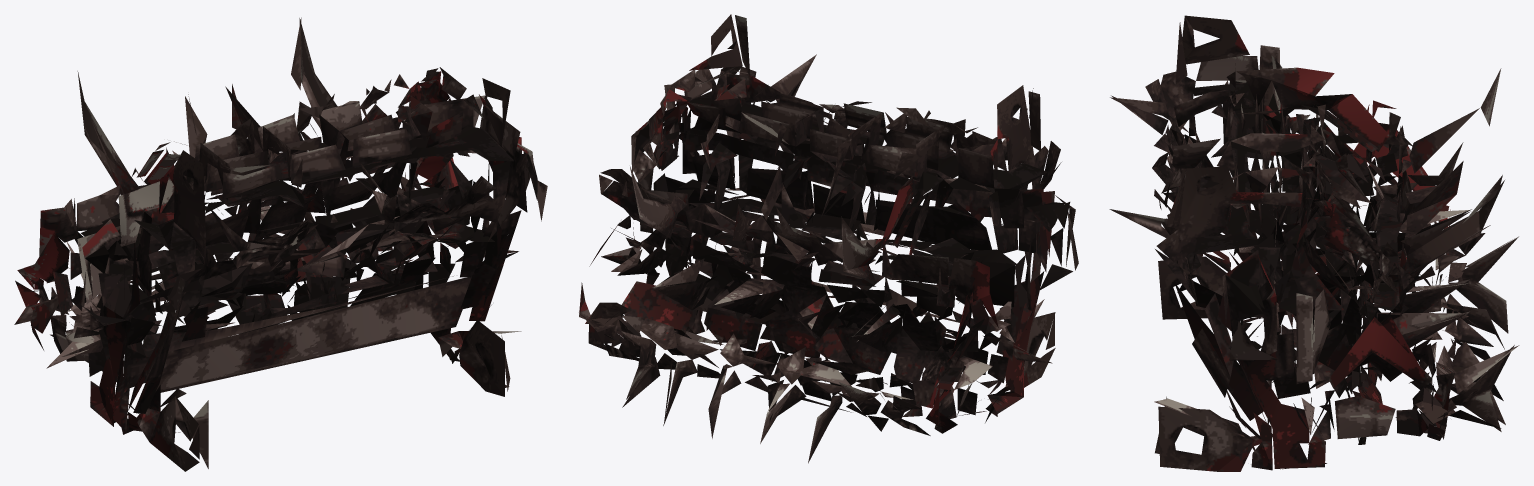
Rendered from mo_spikes.glb.
3 renders of one model, left to right at view 1: azimuth 30°, elevation 25°; view 2: azimuth 150°, elevation 25°; view 3: azimuth 270°, elevation 25°, orthographic. The views are drawn at different scales.
Visible parts, largest first — view 1: mo_spikes; view 2: mo_spikes; view 3: mo_spikes.
Part boxes in pixels (x1,y1,x2,y2): mo_spikes: [14, 17, 547, 471]; mo_spikes: [579, 14, 1078, 463]; mo_spikes: [1109, 15, 1519, 471].
Size of the model in its own units: 0.2 by 0.1216 by 0.1483.
1 material, 1 textured.
